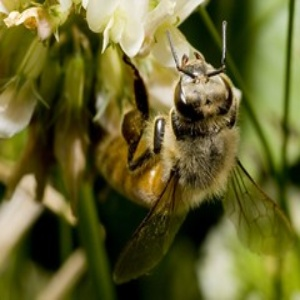bee: (90, 19, 300, 288)
